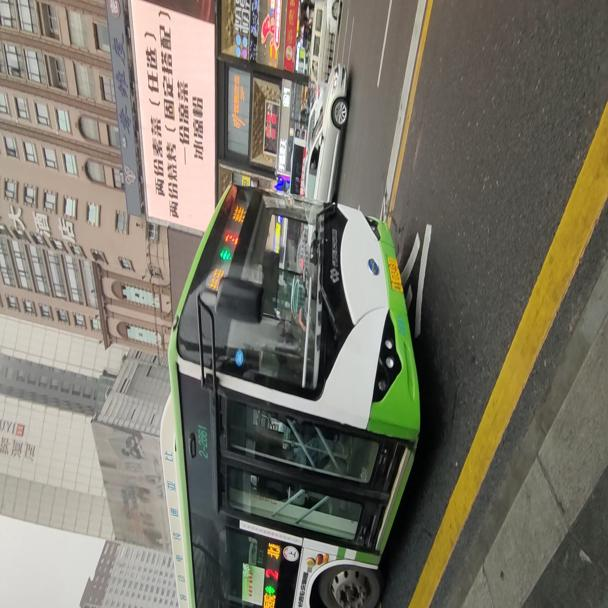bus: (158, 179, 422, 604)
screen: (265, 565, 278, 582)
